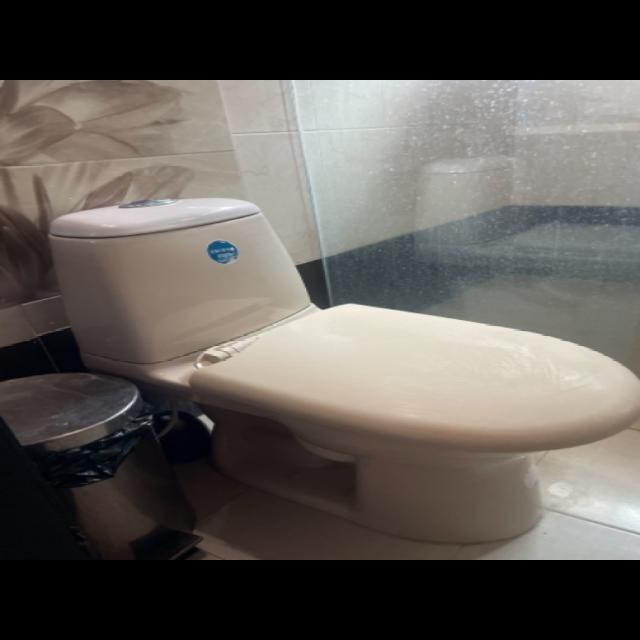toilet: (47, 196, 639, 544)
